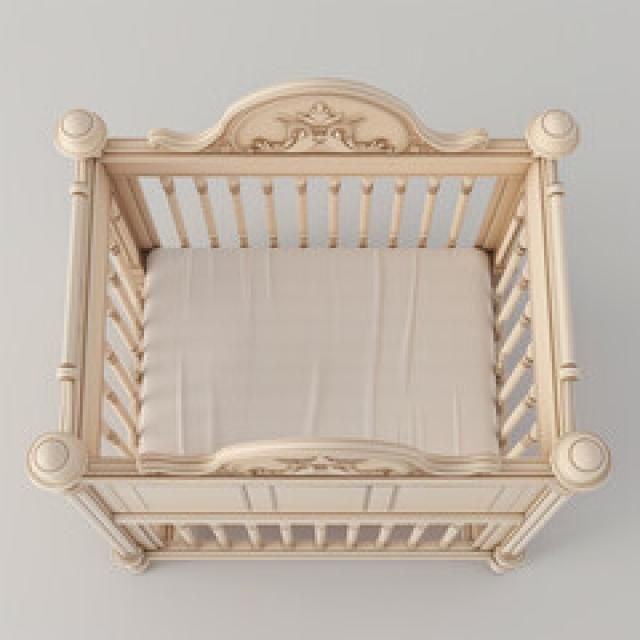crib: (24, 75, 611, 573)
